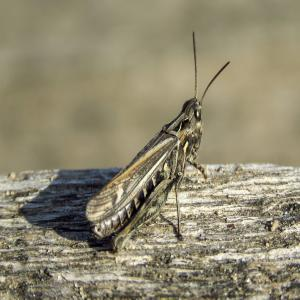locust: (99, 41, 237, 163)
